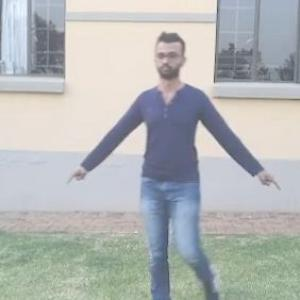land: (88, 42, 260, 296)
